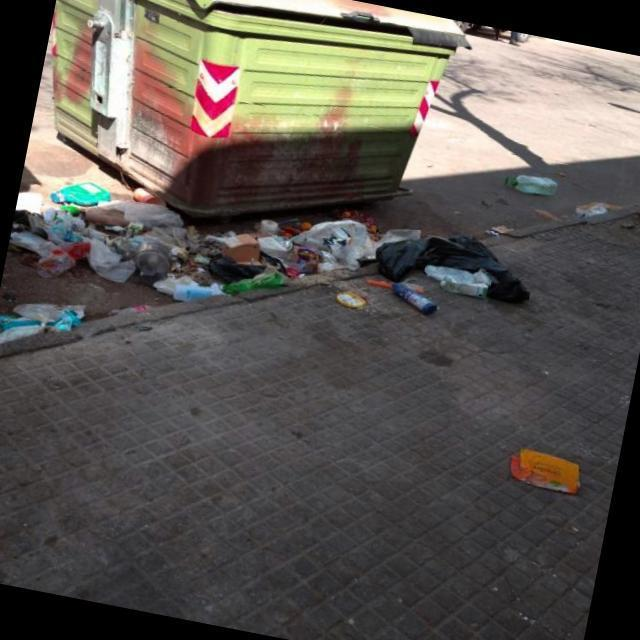garbage: (4, 158, 550, 371), (0, 243, 162, 414), (486, 143, 630, 242), (467, 424, 603, 502)
